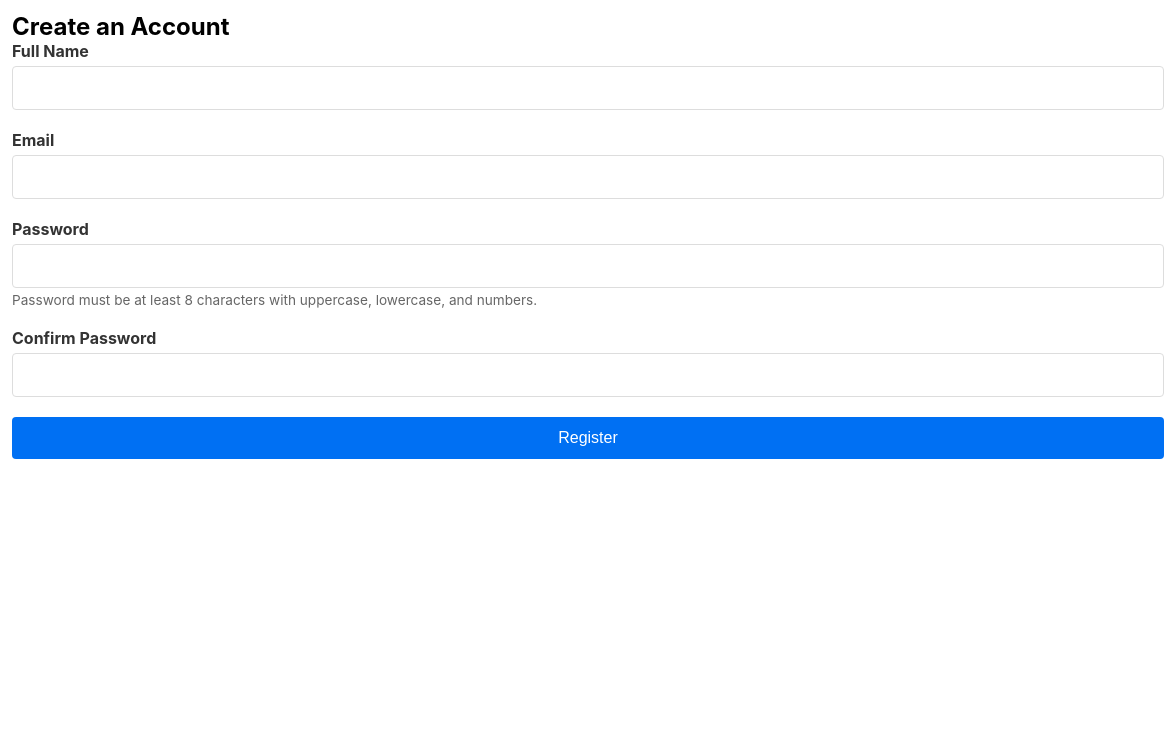
Test: RegisterForm Component › shows error message when registration fails
Note: Fill in the form with valid data
Step 1. Type "John Doe" into the field labelled "Full Name" → (588, 88), box [12, 66, 1164, 110]
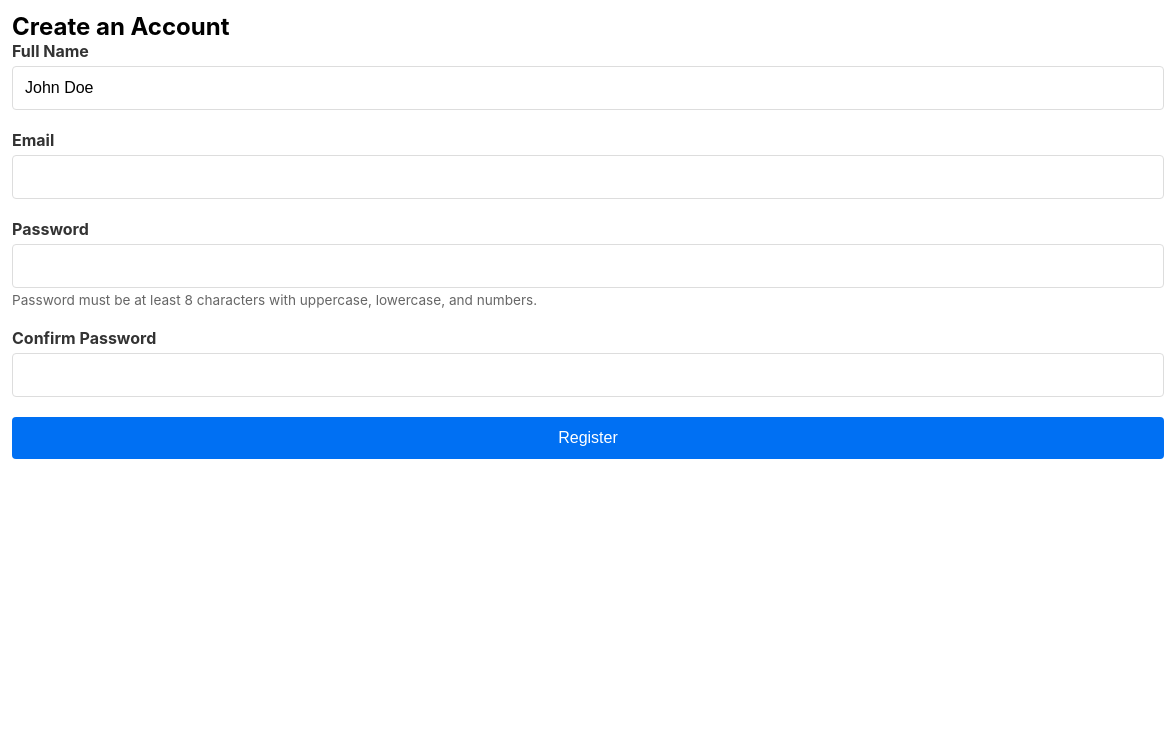
Step 2. Type "john@example.com" into the field labelled "Email" → (588, 177), box [12, 155, 1164, 199]
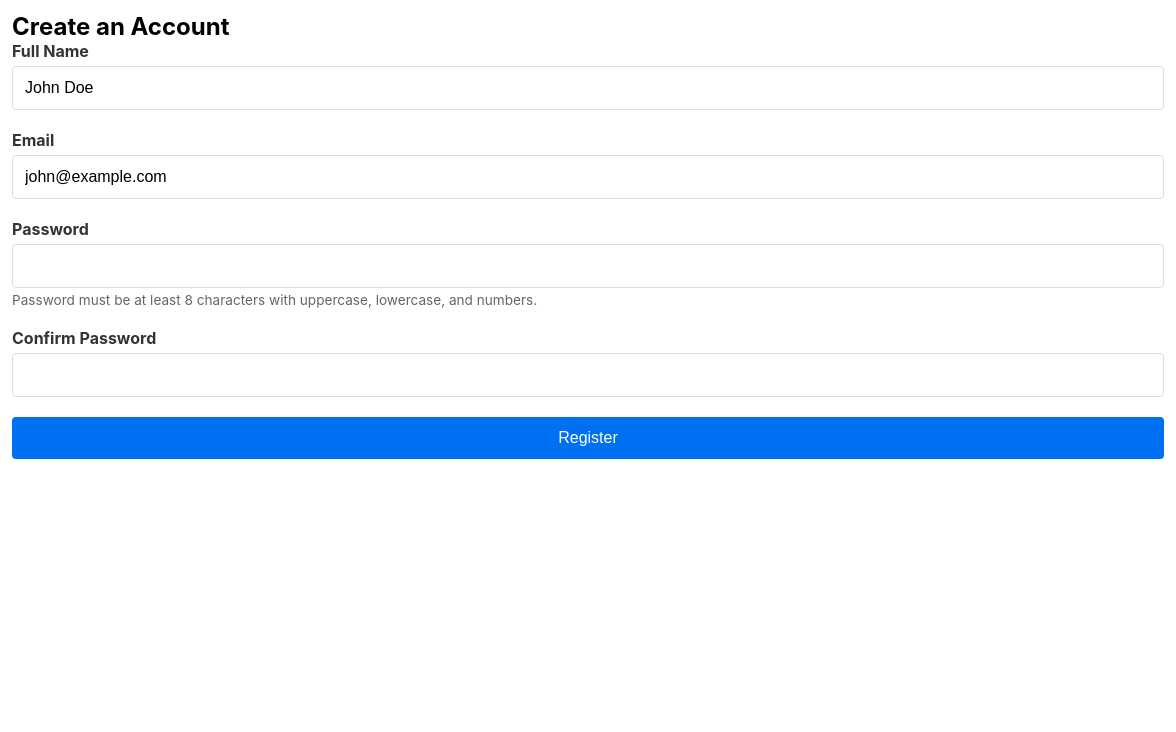
Step 3. Type "Password123" into the password field labelled "Password" → (588, 266), box [12, 244, 1164, 288]
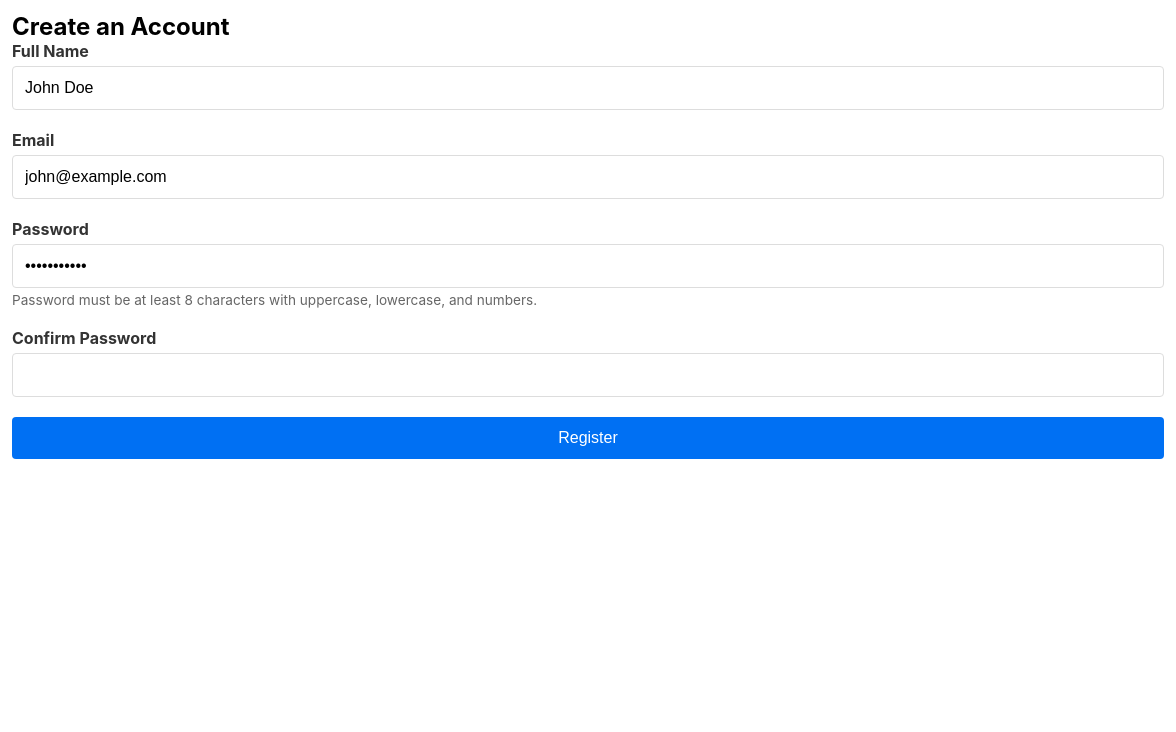
Step 4. Type "Password123" into the password field labelled "Confirm Password" → (588, 375), box [12, 353, 1164, 397]
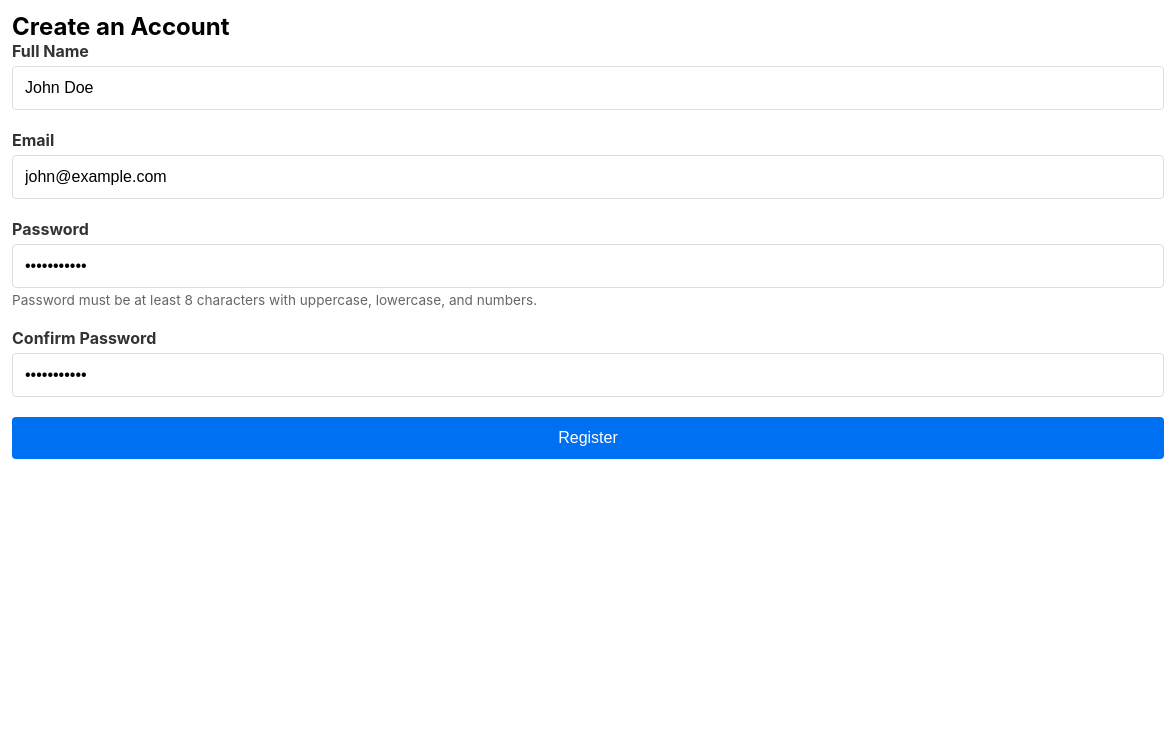
Step 5. Submit the form, box [12, 41, 1164, 459]
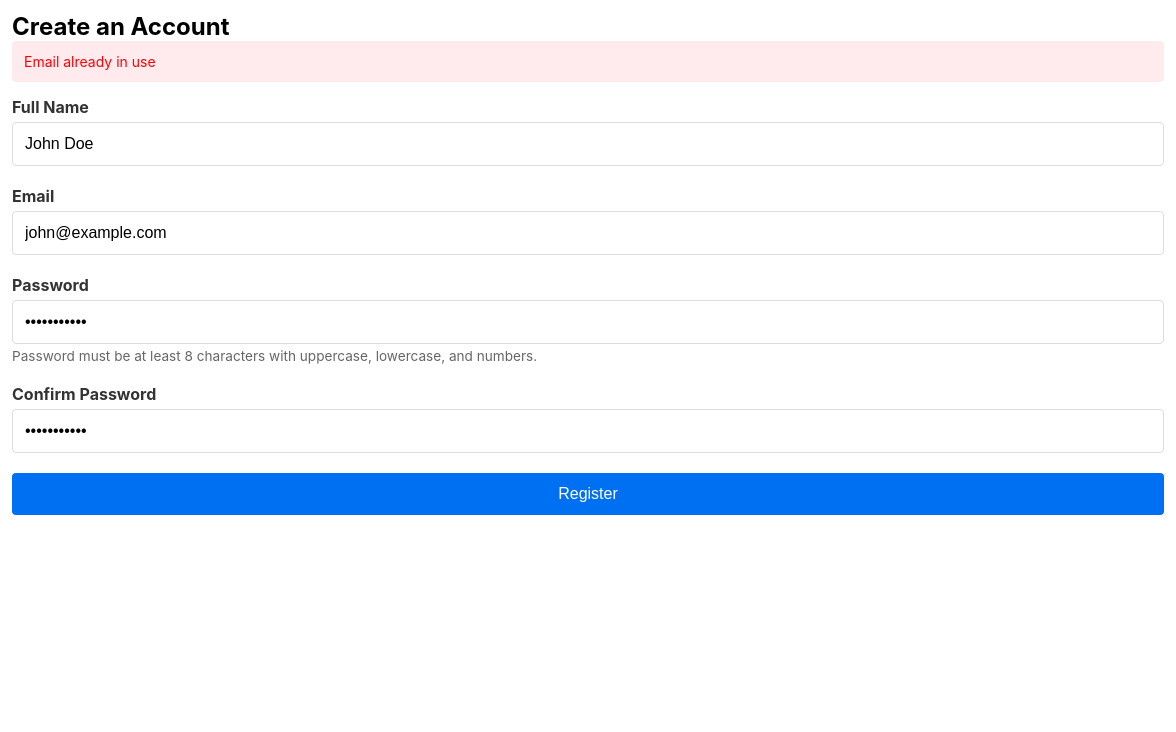
Expected: the button "Register" is enabled, [12, 473, 1164, 515]
Expected: the text "Email already in use" is shown, [12, 41, 1164, 82]
